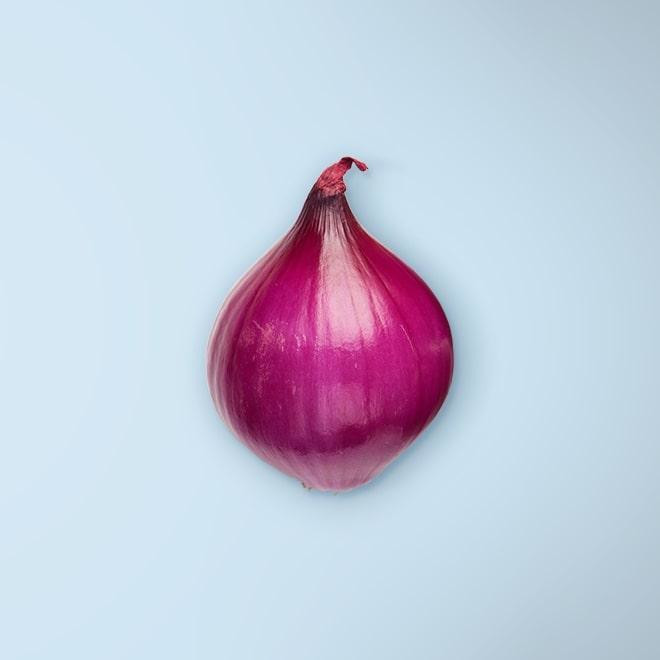onion: (204, 154, 458, 494)
